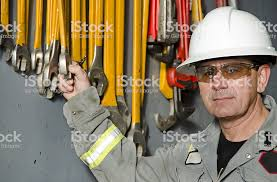Person_wearing_helmet: (173, 4, 276, 87)
